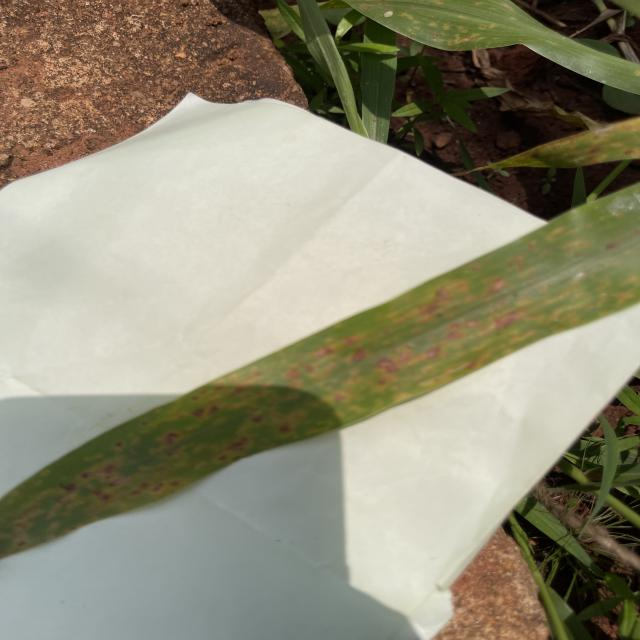millet_rust: (2, 178, 640, 558)
